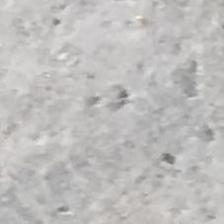Non_Crack: (24, 25, 174, 213)
